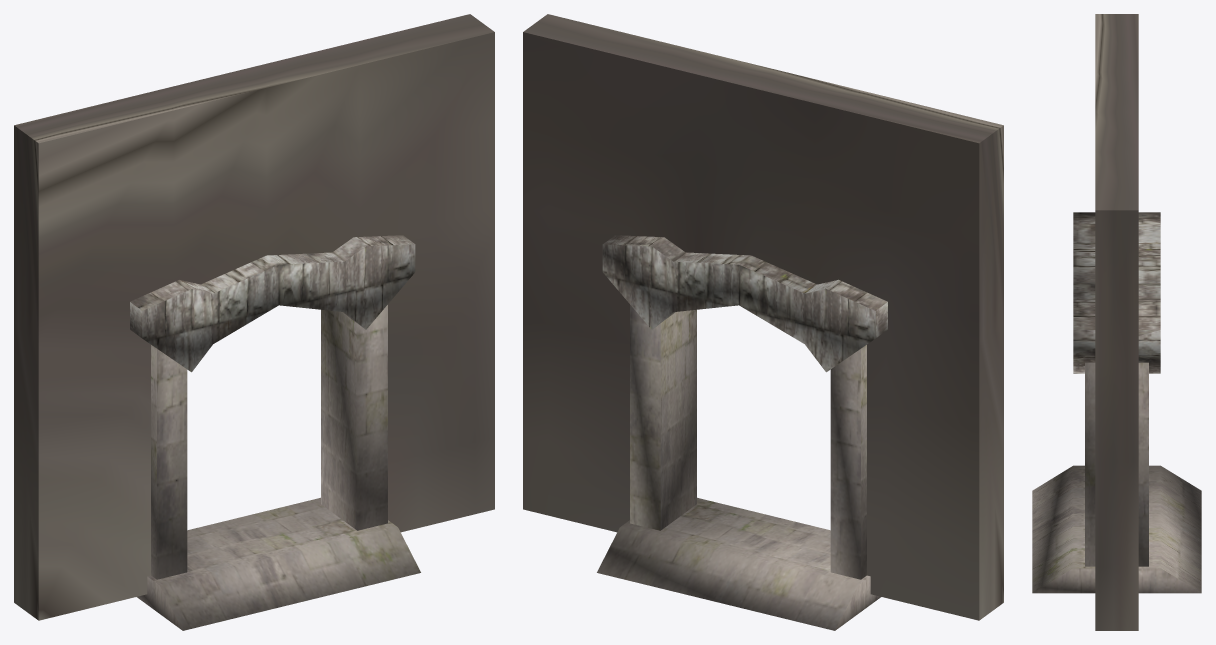
Rendered from wall_sm_entry.glb.
3 renders of one model, left to right at view 1: azimuth 30°, elevation 25°; view 2: azimuth 150°, elevation 25°; view 3: azimuth 270°, elevation 25°, orthographic. The views are drawn at different scales.
Parts seen in each view (by area): view 1: wall_sm_entry; view 2: wall_sm_entry; view 3: wall_sm_entry.
Part boxes in pixels (bbox=[...]): wall_sm_entry: bbox=[14, 14, 494, 630]; wall_sm_entry: bbox=[523, 14, 1003, 630]; wall_sm_entry: bbox=[1032, 14, 1201, 630].
Bounding box in the file's own units: 8 × 8.18 × 2.92.
3 materials, 3 textured.
